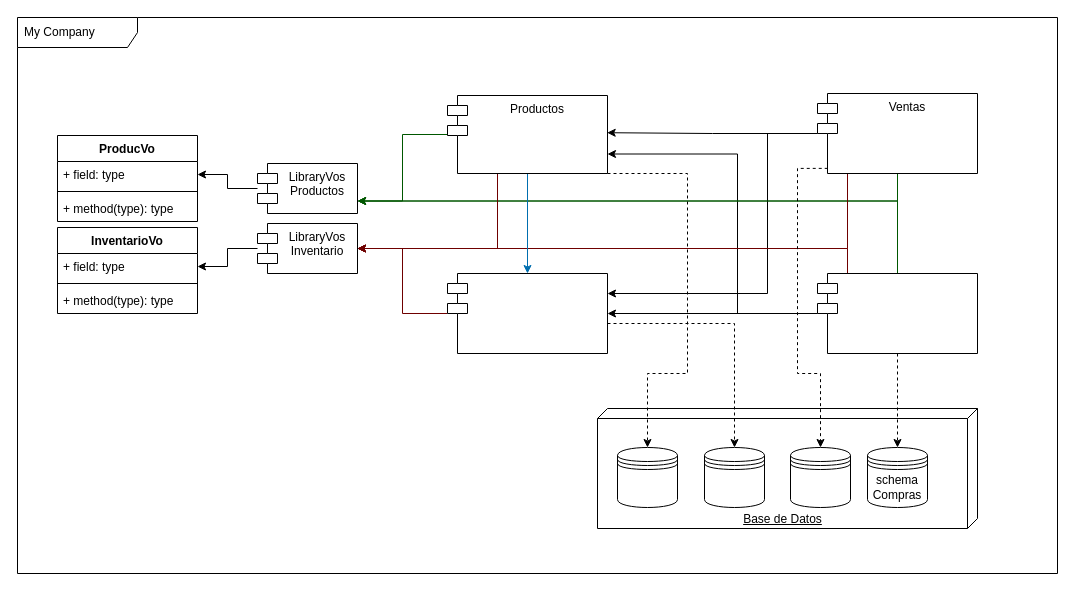
Image size: 1075x591. Some labels were removed from this diagram. The shapes that lost their labels are listed below. From the top down, each one's centre as x and y in pixels, then its label:
At [527,313]: "Inventario".
At [897,313]: "Compras".
At [647,477]: "schema Productos".
At [734,477]: "schema Inventario".
At [820,477]: "schema Ventas".
